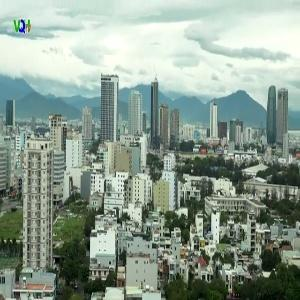drone: (174, 148, 214, 188)
